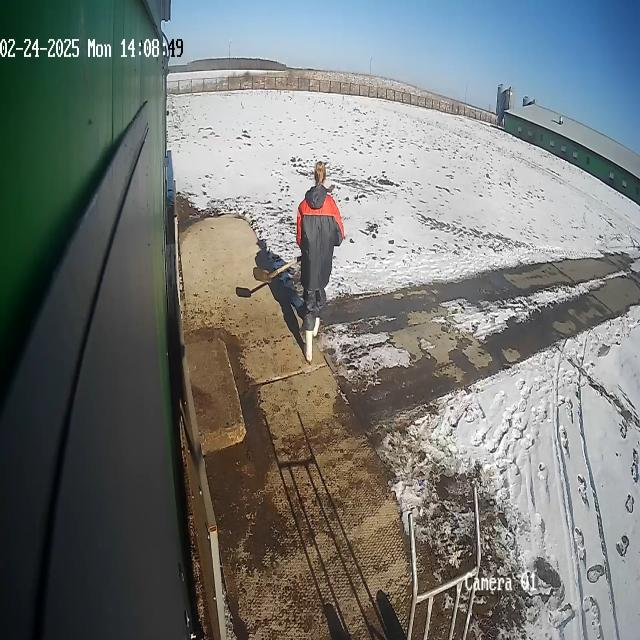Red uniform: (294, 159, 346, 365)
